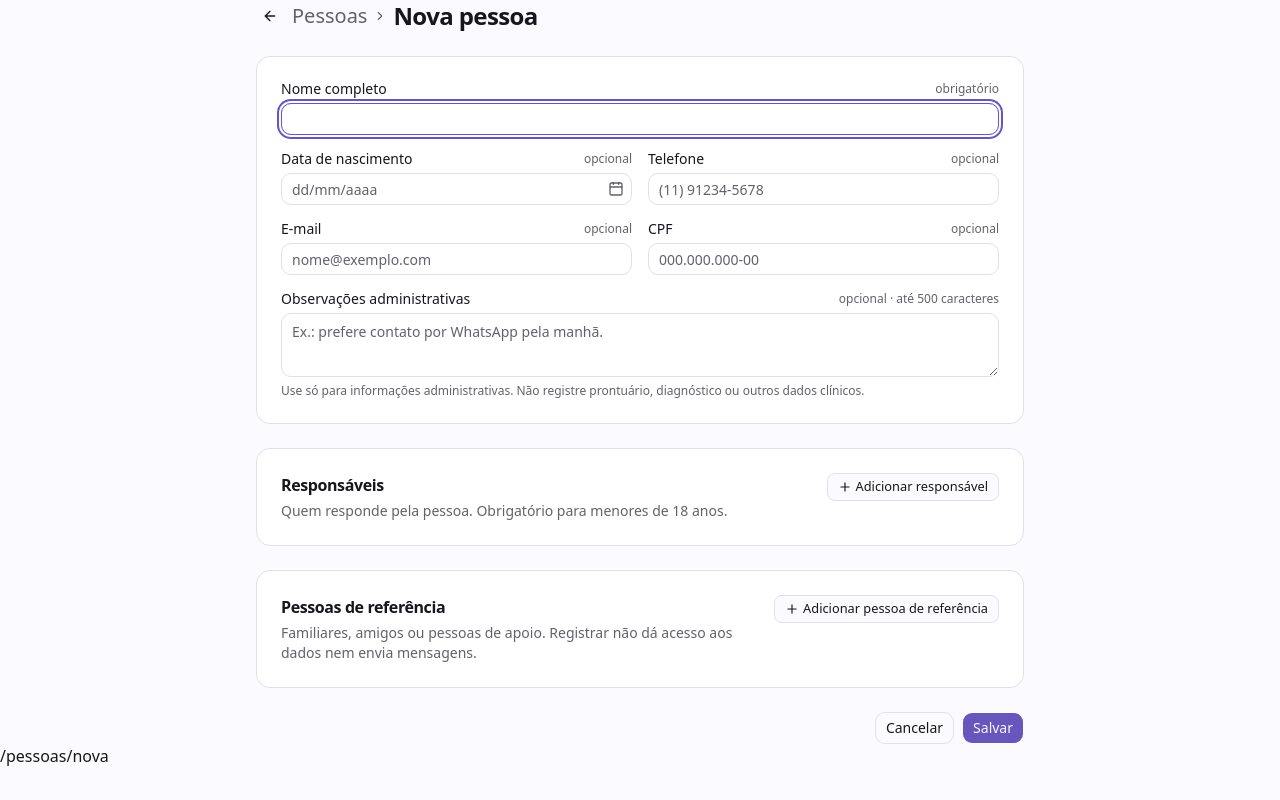
Test: ClientFormPage › registering an adult or a person without a birth date › does not let the calendar pick today or later as a birth date
Click the button named "Abrir calendário".
click(616, 189)  # box x1=604 y1=177 x2=628 y2=201
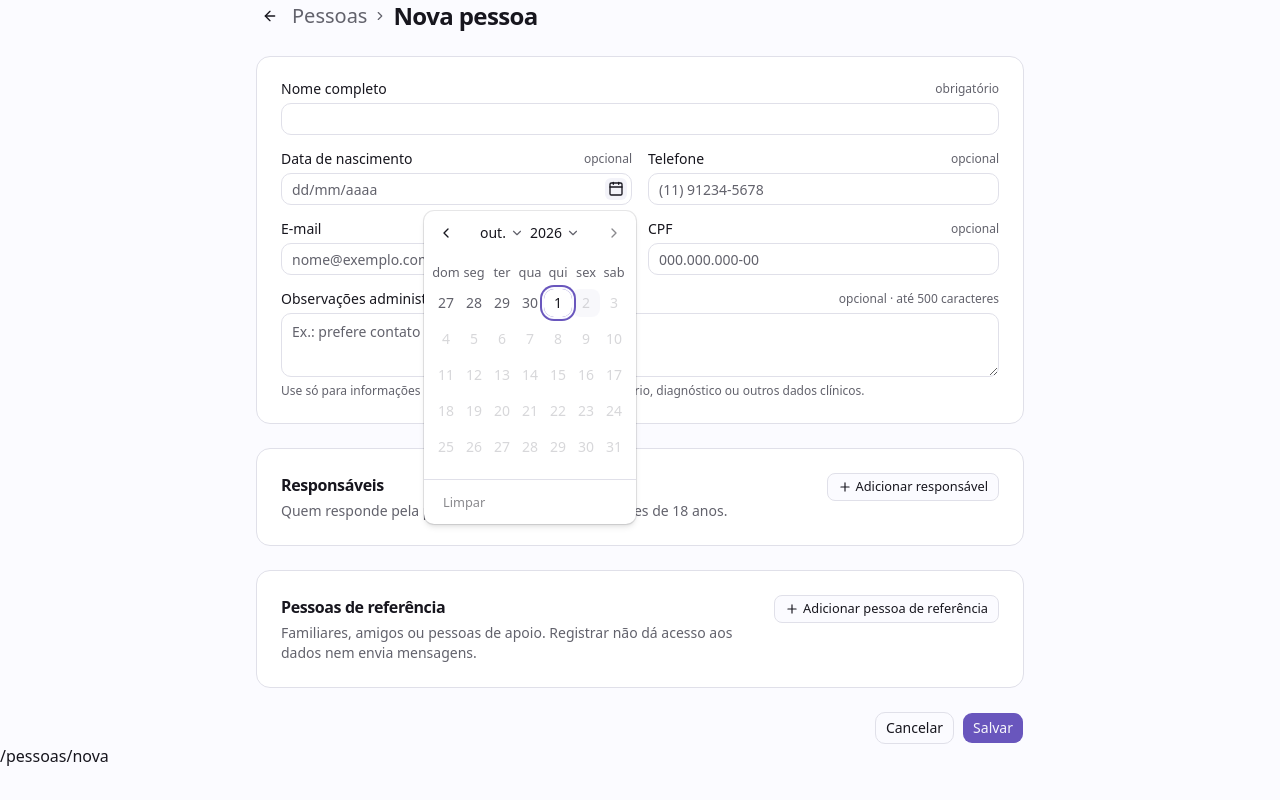
expect the button named ", 1 de outubro de 2026" is enabled: met, box x1=544 y1=289 x2=572 y2=317
expect the button named ", 2 de outubro de 2026" is disabled: met, box x1=572 y1=289 x2=600 y2=317
